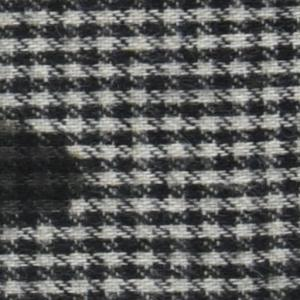Stain: (1, 119, 93, 232)
